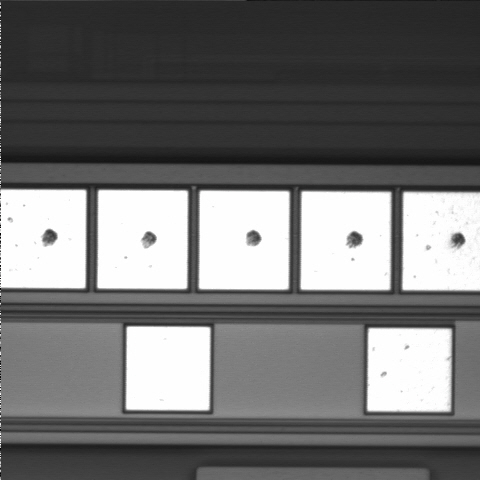pad: (97, 190, 188, 289), (199, 191, 289, 290), (301, 192, 391, 290), (126, 327, 210, 410), (367, 328, 451, 411)
